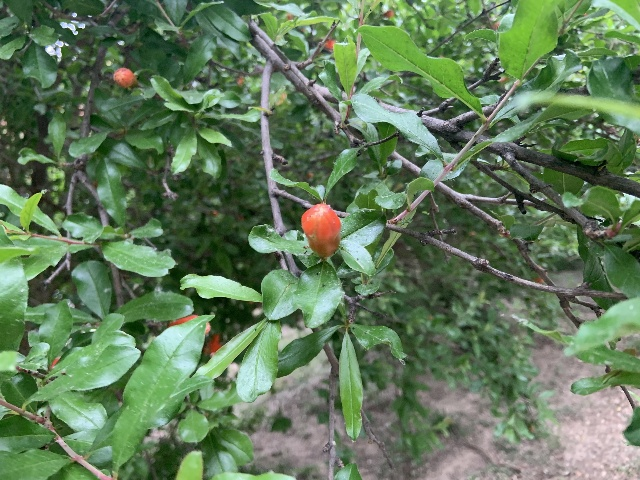bud: (300, 203, 341, 258), (168, 314, 210, 335), (113, 67, 137, 88)
flower: (203, 334, 221, 354)
